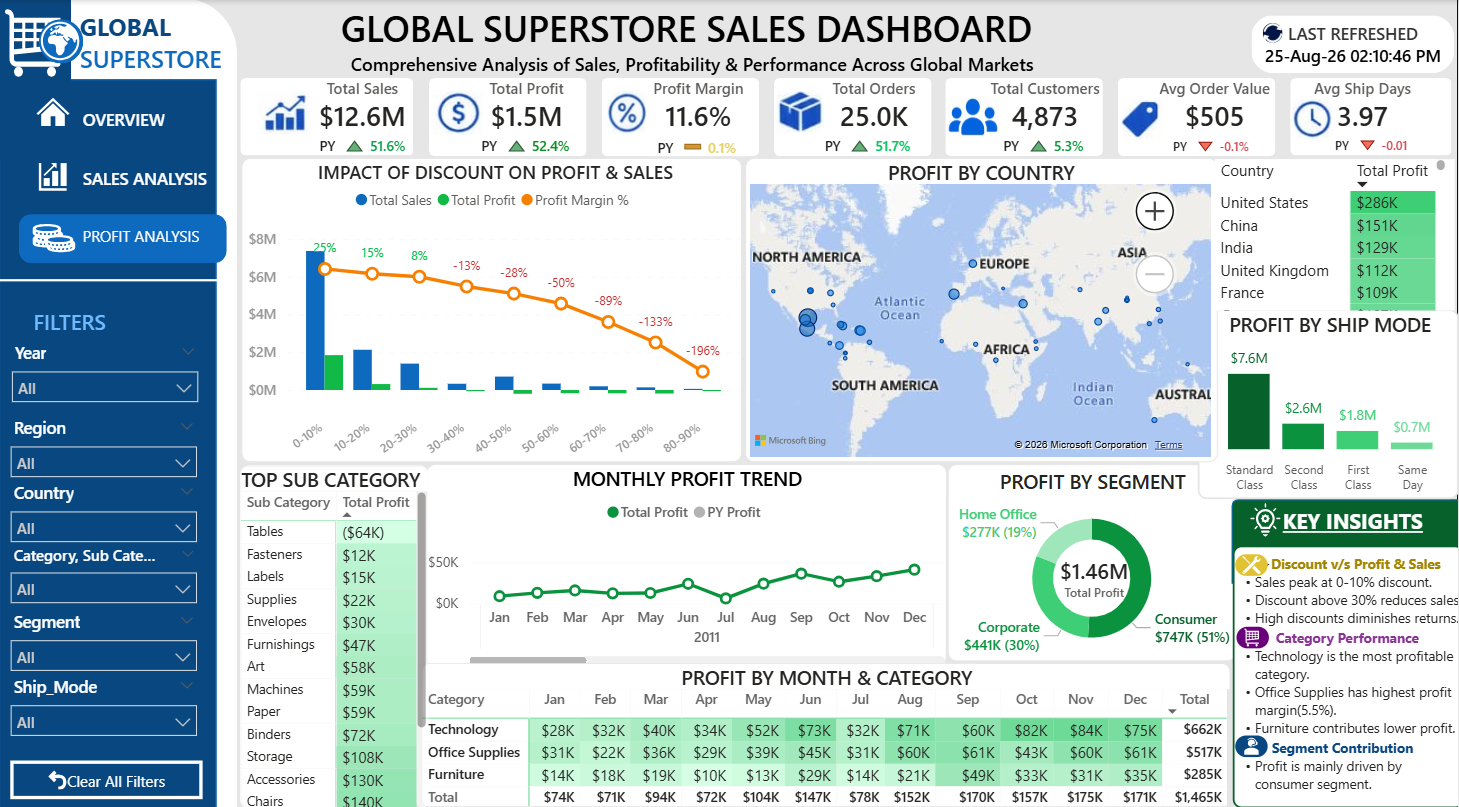

Layout of this report page (visuals, bound fields, positions):
{"tool":"powerbi","page":{"name":"PROFIT ANALYSIS","canvas":[1297,720],"ordinal":2},"visuals":[{"type":"donutChart","title":"PROFIT BY SEGMENT","fields":{"Category":["Dim_Customer.Segment"],"Y":["_Measures.Total Profit"]},"box":[843,414,256,175],"z":0},{"type":"shape","box":[1096,446,206,75.2],"z":1000},{"type":"actionButton","box":[25.6,678,152.2,34.4],"z":2000},{"type":"textbox","box":[1141.5,451.9,149.2,41.3],"z":3000},{"type":"slicer","fields":{"Values":["Dim_Product.Category","Dim_Product.Sub_Category"]},"box":[16.7,479,161.2,60],"z":4000},{"type":"textbox","title":"---KEY INSIGHTS","box":[1096.4,486.8,205.3,233.3],"z":5000},{"type":"slicer","fields":{"Values":["Dim_Geography.Region"]},"box":[16.7,364,161.2,60],"z":6000},{"type":"image","box":[1096,448,61.1,32.4],"z":7000},{"type":"shape","box":[35,18,39,39],"z":8000},{"type":"image","box":[1100.3,558.7,28.5,19.3],"z":9000},{"type":"slicer","fields":{"Values":["Dim_Ship.Ship_Mode"]},"box":[16.7,594,161.2,60],"z":10000},{"type":"image","box":[1099.2,494,28.5,19.3],"z":11000},{"type":"slicer","fields":{"Values":["Dim_Customer.Segment"]},"box":[16.7,536.5,161.2,60],"z":12000},{"type":"image","box":[1099.2,655.3,28.5,19.3],"z":13000},{"type":"shape","box":[246,103,36,29.1],"z":14000},{"type":"slicer","fields":{"Values":["Dim_Geography.Country"]},"box":[16.7,421.5,161.2,60],"z":15000},{"type":"image","box":[31.4,15.7,46,44],"z":16000},{"type":"shape","box":[382.2,71,140.2,69.4],"z":17000},{"type":"shape","box":[214.8,71.2,153.9,68.9],"z":18000},{"type":"shape","box":[570,100.2,36.8,34.5],"z":19000},{"type":"tableEx","fields":{"Values":["Temp_Table.Column1","_Measures.YoY Profit Growth %"]},"box":[422.6,101,92.7,40.7],"z":20000},{"type":"shape","box":[735,101,38,33.4],"z":21000},{"type":"shape","box":[535.3,71,140.2,69.4],"z":22000},{"type":"shape","box":[892.7,103.3,38.3,31.8],"z":23000},{"type":"shape","box":[688.5,71,140.2,69.4],"z":24000},{"type":"shape","box":[1055.3,105,39.5,34],"z":25000},{"type":"shape","box":[1147.5,71.2,143.6,68.9],"z":26000},{"type":"shape","box":[841.7,71,140.2,69.4],"z":27000},{"type":"tableEx","fields":{"Values":["Temp_Table.Column1","_Measures.YoY Sales Growth %"]},"box":[268,101,101,39],"z":28000},{"type":"shape","box":[994.8,71,140.2,69.4],"z":29000},{"type":"textbox","box":[572.1,95,39.9,46],"z":30000},{"type":"tableEx","fields":{"Values":["Temp_Table.Column1","_Measures.YoY AVG Ship Days"]},"box":[1176,100,90,39.2],"z":31000},{"type":"image","box":[734,101.4,39,31],"z":32000},{"type":"tableEx","fields":{"Values":["Temp_Table.Column1","_Measures.YoY Profit Margin"]},"box":[575,102,94.7,39.3],"z":33000},{"type":"image","box":[887,100,51,40],"z":34000},{"type":"tableEx","fields":{"Values":["Temp_Table.Column1","_Measures.YoY Orders"]},"box":[726,101,96,38.7],"z":35000},{"type":"image","box":[1053,106,45,31],"z":36000},{"type":"tableEx","fields":{"Values":["Temp_Table.Column1","_Measures.YoY Customers"]},"box":[882,101,100,39],"z":37000},{"type":"tableEx","fields":{"Values":["Temp_Table.Column1","_Measures.YoY AVG Order Value"]},"box":[1032,101,95,39.3],"z":38000},{"type":"shape","box":[15.7,0,196,847.1],"z":39000},{"type":"cardVisual","fields":{"Data":["_Measures.Total Sales"]},"box":[269.7,68,106,56.7],"z":40000},{"type":"shape","box":[0,72.2,193.3,775.6],"z":41000},{"type":"cardVisual","fields":{"Data":["_Measures.Average Ship Days"]},"box":[1155.6,68,113.1,56.9],"z":42000},{"type":"cardVisual","fields":{"Data":["_Measures.Profit Margin %"]},"box":[567,68,111,56.8],"z":43000},{"type":"textbox","box":[25,270.2,152.9,37.5],"z":44000},{"type":"cardVisual","fields":{"Data":["_Measures.Total Orders"]},"box":[728,68,100.7,56.7],"z":45000},{"type":"cardVisual","fields":{"Data":["_Measures.Total Customers"]},"box":[868,68,124,56.7],"z":46000},{"type":"cardVisual","fields":{"Data":["_Measures.Average Order Value"]},"box":[1016,68,130.7,56.7],"z":47000},{"type":"cardVisual","fields":{"Data":["_Measures.Total Profit"]},"box":[410,68,118.8,56.8],"z":48000},{"type":"image","box":[229.7,83.1,48.7,37.4],"z":49000},{"type":"image","box":[384,82.4,45.9,38.9],"z":50000},{"type":"image","box":[539,82.5,37.1,38.7],"z":51000},{"type":"image","box":[691,83.7,42,36],"z":52000},{"type":"image","box":[843,88.5,45.2,34.3],"z":53000},{"type":"image","box":[998,90,35.5,36],"z":54000},{"type":"image","box":[1148,90,38.5,35],"z":55000},{"type":"shape","box":[0,0,64,144],"z":56000},{"type":"image","box":[0,0,64.3,80],"z":57000},{"type":"textbox","box":[299,0,646,80],"z":58000},{"type":"textbox","box":[67,5,148.7,80],"z":59000},{"type":"shape","box":[17.8,192.2,184.4,43.3],"z":60000},{"type":"pageNavigator","box":[74.4,86.7,167.8,148.9],"z":61000},{"type":"image","box":[0,196.7,95.6,33.3],"z":62000},{"type":"image","box":[0,84.4,95.6,33.3],"z":63000},{"type":"image","box":[0,142.2,95.6,33.3],"z":64000},{"type":"shape","box":[0,246.5,194.4,8.5],"z":65000},{"type":"pageNavigator","box":[0,83.6,194.5,149.1],"z":66000},{"type":"lineChart","title":"MONTHLY PROFIT TREND","fields":{"Category":["Dim_Date.Order_Date.Variation.Date Hierarchy.Year","Dim_Date.Month"],"Y":["_Measures.Total Profit","_Measures.PY Profit"]},"box":[380,414,462,180],"z":67000},{"type":"pivotTable","title":"PROFIT BY MONTH & CATEGORY","fields":{"Columns":["Dim_Date.Month"],"Rows":["Dim_Product.Category"],"Values":["_Measures.Total Profit"]},"box":[376,591,719,129],"z":68000},{"type":"lineClusteredColumnComboChart","title":"IMPACT OF DISCOUNT ON PROFIT & SALES","fields":{"Category":["Fact_Sales.Discount_Range"],"Y":["_Measures.Total Sales","_Measures.Total Profit"],"Y2":["_Measures.Profit Margin %"]},"box":[215,142,445,270],"z":69000},{"type":"pivotTable","title":"TOP SUB CATEGORY","fields":{"Rows":["Dim_Product.Sub_Category"],"Values":["_Measures.Total Profit"]},"box":[214,415,167,305],"z":70000},{"type":"clusteredColumnChart","title":"PROFIT BY SHIP MODE","fields":{"Category":["Dim_Ship.Ship_Mode"],"Y":["_Measures.Total Sales"]},"box":[1065,277,232,169],"z":71000},{"type":"cardVisual","fields":{"Data":["_Measures.Total Profit"]},"box":[925,479,96,73],"z":72000},{"type":"actionButton","box":[10.2,678.1,171,34.4],"z":73000},{"type":"slicer","fields":{"Values":["Dim_Product.Category","Dim_Product.Sub_Category"]},"box":[0,481.5,185.9,60],"z":74000},{"type":"slicer","fields":{"Values":["Dim_Geography.Region"]},"box":[0,366.5,185.9,60],"z":75000},{"type":"slicer","fields":{"Values":["Dim_Ship.Ship_Mode"]},"box":[0,596.5,185.9,60],"z":76000},{"type":"slicer","fields":{"Values":["Dim_Customer.Segment"]},"box":[0,539,185.9,60],"z":77000},{"type":"slicer","fields":{"Values":["Dim_Geography.Country"]},"box":[0,424,185.9,60],"z":78000},{"type":"slicer","fields":{"Values":["Dim_Date.Year"]},"box":[1.3,300,185.7,60],"z":79000},{"type":"map","title":"PROFIT BY COUNTRY","fields":{"Category":["Dim_Geography.Country"],"Size":["_Measures.Total Profit"]},"box":[663,142,420,270],"z":80000},{"type":"pivotTable","title":"SALES BY MONTH & CATEGORY","fields":{"Rows":["Dim_Geography.Country"],"Values":["_Measures.Total Profit"]},"box":[1081,143,213,134],"z":81000},{"type":"shape","box":[35,19.3,39.3,39.3],"z":82000},{"type":"image","box":[31.4,17.1,46.4,43.6],"z":83000},{"type":"cardVisual","fields":{"Data":["Max(Last Refresh.Last Refresh)"]},"box":[1113.3,15.6,184,51.1],"z":84000},{"type":"image","box":[1123.3,22.2,17.8,17.8],"z":85000}]}

Visuals, with their boxes in screenshot pixels (x1, y1, x2, y2), scaled from the page's 1297x720 canvas onto the 1459x807 screenshot:
"PROFIT BY SEGMENT" donutChart: (x1=948, y1=464, x2=1236, y2=660)
shape: (x1=1233, y1=500, x2=1458, y2=584)
actionButton: (x1=29, y1=760, x2=200, y2=798)
textbox: (x1=1284, y1=507, x2=1452, y2=553)
slicer - Dim_Product.Category x Dim_Product.Sub_Category: (x1=19, y1=537, x2=200, y2=604)
"---KEY INSIGHTS" textbox: (x1=1233, y1=546, x2=1458, y2=806)
slicer - Dim_Geography.Region: (x1=19, y1=408, x2=200, y2=475)
image: (x1=1233, y1=502, x2=1302, y2=538)
shape: (x1=39, y1=20, x2=83, y2=64)
image: (x1=1238, y1=626, x2=1270, y2=648)
slicer - Dim_Ship.Ship_Mode: (x1=19, y1=666, x2=200, y2=733)
image: (x1=1236, y1=554, x2=1269, y2=575)
slicer - Dim_Customer.Segment: (x1=19, y1=601, x2=200, y2=669)
image: (x1=1236, y1=734, x2=1269, y2=756)
shape: (x1=277, y1=115, x2=317, y2=148)
slicer - Dim_Geography.Country: (x1=19, y1=472, x2=200, y2=540)
image: (x1=35, y1=18, x2=87, y2=67)
shape: (x1=430, y1=80, x2=588, y2=157)
shape: (x1=242, y1=80, x2=415, y2=157)
shape: (x1=641, y1=112, x2=683, y2=151)
tableEx - Temp_Table.Column1 x _Measures.YoY Profit Growth %: (x1=475, y1=113, x2=580, y2=159)
shape: (x1=827, y1=113, x2=870, y2=151)
shape: (x1=602, y1=80, x2=760, y2=157)
shape: (x1=1004, y1=116, x2=1047, y2=151)
shape: (x1=774, y1=80, x2=932, y2=157)
shape: (x1=1187, y1=118, x2=1232, y2=156)
shape: (x1=1291, y1=80, x2=1452, y2=157)
shape: (x1=947, y1=80, x2=1105, y2=157)
tableEx - Temp_Table.Column1 x _Measures.YoY Sales Growth %: (x1=301, y1=113, x2=415, y2=157)
shape: (x1=1119, y1=80, x2=1277, y2=157)
textbox: (x1=644, y1=106, x2=688, y2=158)
tableEx - Temp_Table.Column1 x _Measures.YoY AVG Ship Days: (x1=1323, y1=112, x2=1424, y2=156)
image: (x1=826, y1=114, x2=870, y2=148)
tableEx - Temp_Table.Column1 x _Measures.YoY Profit Margin: (x1=647, y1=114, x2=753, y2=158)
image: (x1=998, y1=112, x2=1055, y2=157)
tableEx - Temp_Table.Column1 x _Measures.YoY Orders: (x1=817, y1=113, x2=925, y2=157)
image: (x1=1185, y1=119, x2=1235, y2=154)
tableEx - Temp_Table.Column1 x _Measures.YoY Customers: (x1=992, y1=113, x2=1105, y2=157)
tableEx - Temp_Table.Column1 x _Measures.YoY AVG Order Value: (x1=1161, y1=113, x2=1268, y2=157)
shape: (x1=18, y1=0, x2=238, y2=806)
cardVisual - _Measures.Total Sales: (x1=303, y1=76, x2=423, y2=140)
shape: (x1=0, y1=81, x2=217, y2=806)
cardVisual - _Measures.Average Ship Days: (x1=1300, y1=76, x2=1427, y2=140)
cardVisual - _Measures.Profit Margin %: (x1=638, y1=76, x2=763, y2=140)
textbox: (x1=28, y1=303, x2=200, y2=345)
cardVisual - _Measures.Total Orders: (x1=819, y1=76, x2=932, y2=140)
cardVisual - _Measures.Total Customers: (x1=976, y1=76, x2=1116, y2=140)
cardVisual - _Measures.Average Order Value: (x1=1143, y1=76, x2=1290, y2=140)
cardVisual - _Measures.Total Profit: (x1=461, y1=76, x2=595, y2=140)
image: (x1=258, y1=93, x2=313, y2=135)
image: (x1=432, y1=92, x2=484, y2=136)
image: (x1=606, y1=92, x2=648, y2=136)
image: (x1=777, y1=94, x2=825, y2=134)
image: (x1=948, y1=99, x2=999, y2=138)
image: (x1=1123, y1=101, x2=1163, y2=141)
image: (x1=1291, y1=101, x2=1335, y2=140)
shape: (x1=0, y1=0, x2=72, y2=161)
image: (x1=0, y1=0, x2=72, y2=90)
textbox: (x1=336, y1=0, x2=1063, y2=90)
textbox: (x1=75, y1=6, x2=243, y2=95)
shape: (x1=20, y1=215, x2=227, y2=264)
pageNavigator: (x1=84, y1=97, x2=272, y2=264)
image: (x1=0, y1=220, x2=108, y2=258)
image: (x1=0, y1=95, x2=108, y2=132)
image: (x1=0, y1=159, x2=108, y2=197)
shape: (x1=0, y1=276, x2=219, y2=286)
pageNavigator: (x1=0, y1=94, x2=219, y2=261)
"MONTHLY PROFIT TREND" lineChart: (x1=427, y1=464, x2=947, y2=666)
"PROFIT BY MONTH & CATEGORY" pivotTable: (x1=423, y1=662, x2=1232, y2=806)
"IMPACT OF DISCOUNT ON PROFIT & SALES" lineClusteredColumnComboChart: (x1=242, y1=159, x2=742, y2=462)
"TOP SUB CATEGORY" pivotTable: (x1=241, y1=465, x2=429, y2=806)
"PROFIT BY SHIP MODE" clusteredColumnChart: (x1=1198, y1=310, x2=1458, y2=500)
cardVisual - _Measures.Total Profit: (x1=1041, y1=537, x2=1149, y2=619)
actionButton: (x1=11, y1=760, x2=204, y2=799)
slicer - Dim_Product.Category x Dim_Product.Sub_Category: (x1=0, y1=540, x2=209, y2=607)
slicer - Dim_Geography.Region: (x1=0, y1=411, x2=209, y2=478)
slicer - Dim_Ship.Ship_Mode: (x1=0, y1=669, x2=209, y2=736)
slicer - Dim_Customer.Segment: (x1=0, y1=604, x2=209, y2=671)
slicer - Dim_Geography.Country: (x1=0, y1=475, x2=209, y2=542)
slicer - Dim_Date.Year: (x1=1, y1=336, x2=210, y2=404)
"PROFIT BY COUNTRY" map: (x1=746, y1=159, x2=1218, y2=462)
"SALES BY MONTH & CATEGORY" pivotTable: (x1=1216, y1=160, x2=1456, y2=310)
shape: (x1=39, y1=22, x2=84, y2=66)
image: (x1=35, y1=19, x2=88, y2=68)
cardVisual - Max(Last Refresh.Last Refresh): (x1=1252, y1=17, x2=1458, y2=75)
image: (x1=1264, y1=25, x2=1284, y2=45)
